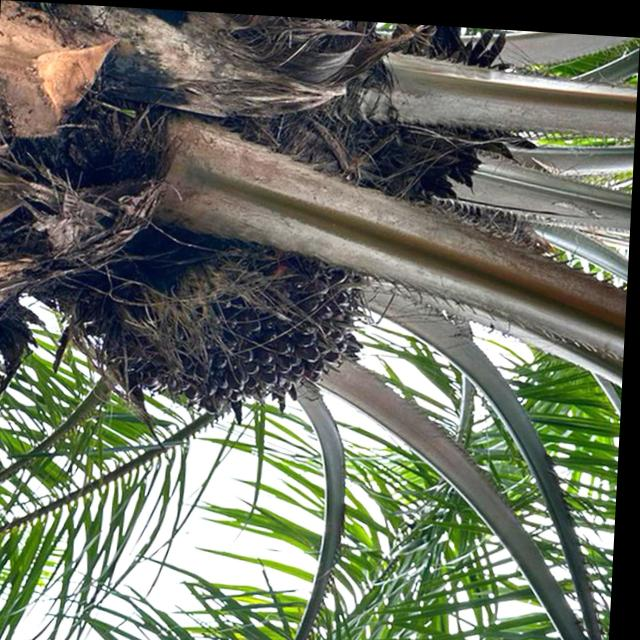ripe: (65, 202, 383, 438)
